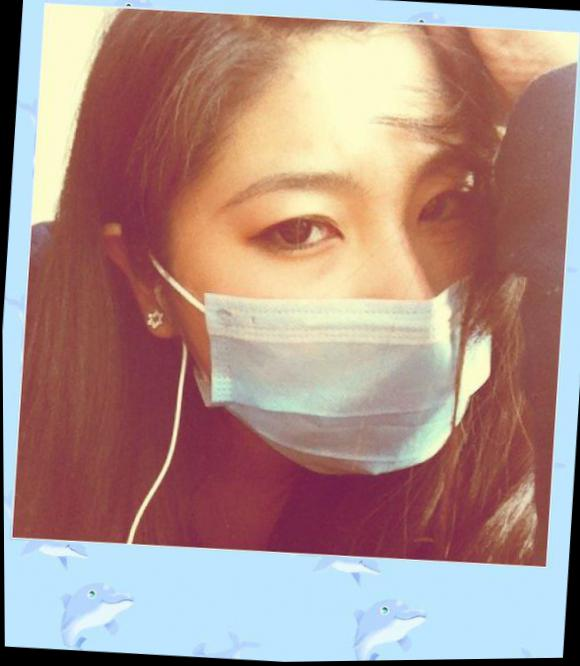WRONG: (168, 84, 522, 497)
